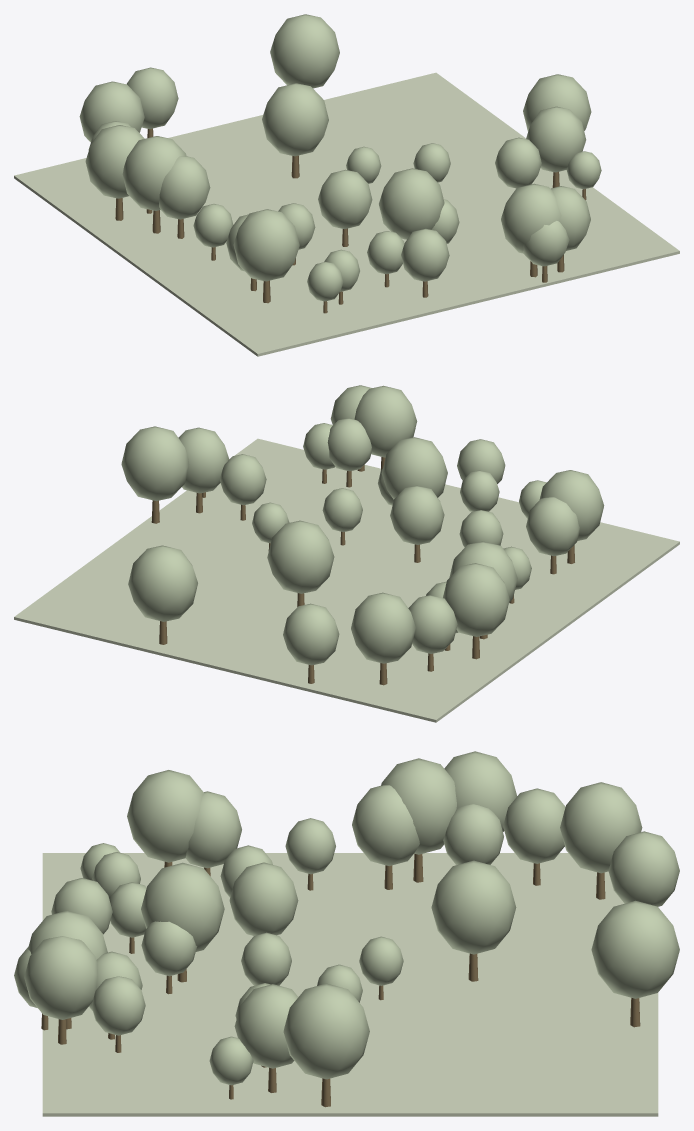
The picture shows the model from 3 angles, top to bottom: view 1: azimuth 30°, elevation 25°; view 2: azimuth 150°, elevation 25°; view 3: azimuth 270°, elevation 25°; orthographic projection. The views are drawn at different scales.
Visible parts, largest first — view 1: terrain, lod-near-13, lod-near-8, lod-near-0, lod-near-26, lod-near-14, lod-near-20, lod-near-11, lod-near-31, lod-near-18, lod-near-1, lod-near-10 (+15 smaller); view 2: terrain, lod-near-13, lod-near-25, lod-near-8, lod-near-11, lod-near-1, lod-near-31, lod-near-26, lod-near-6, lod-near-18, lod-near-16, lod-near-0 (+14 smaller); view 3: terrain, lod-near-13, lod-near-25, lod-near-8, lod-near-0, lod-near-1, lod-near-29, lod-near-26, lod-near-14, lod-near-6, lod-near-10, lod-near-18 (+20 smaller).
Part boxes in pixels (left/top/right/bottom): terrain: left=14, top=72, right=679, bottom=356; lod-near-13: left=270, top=14, right=339, bottom=88; lod-near-8: left=262, top=83, right=328, bottom=156; lod-near-0: left=233, top=209, right=299, bottom=281; lod-near-26: left=379, top=168, right=444, bottom=239; lod-near-14: left=122, top=136, right=186, bottom=210; lod-near-20: left=526, top=106, right=586, bottom=172; lod-near-11: left=85, top=125, right=144, bottom=198; lod-near-31: left=501, top=183, right=561, bottom=253; lod-near-18: left=318, top=169, right=372, bottom=229; lod-near-1: left=79, top=81, right=144, bottom=142; lod-near-10: left=159, top=156, right=210, bottom=219; terrain: left=14, top=438, right=679, bottom=722; lod-near-13: left=128, top=545, right=197, bottom=621; lod-near-25: left=121, top=426, right=189, bottom=500; lod-near-8: left=267, top=520, right=334, bottom=593; lod-near-11: left=443, top=563, right=509, bottom=636; lod-near-1: left=351, top=592, right=415, bottom=663; lod-near-31: left=354, top=385, right=417, bottom=457; lod-near-26: left=381, top=437, right=447, bottom=499; lod-near-6: left=283, top=603, right=339, bottom=665; lod-near-18: left=390, top=485, right=444, bottom=544; lod-near-16: left=526, top=497, right=579, bottom=556; lod-near-0: left=539, top=470, right=604, bottom=540; terrain: left=42, top=853, right=658, bottom=1116; lod-near-13: left=591, top=900, right=679, bottom=998; lod-near-25: left=283, top=983, right=369, bottom=1079; lod-near-8: left=431, top=860, right=516, bottom=954; lod-near-0: left=127, top=770, right=204, bottom=862; lod-near-1: left=560, top=782, right=642, bottom=873; lod-near-29: left=24, top=936, right=97, bottom=1019; lod-near-26: left=141, top=862, right=224, bottom=951; lod-near-14: left=381, top=758, right=456, bottom=854; lod-near-6: left=608, top=831, right=679, bottom=906; lod-near-10: left=352, top=785, right=419, bottom=865; lod-near-18: left=229, top=862, right=298, bottom=935.
Bounding box in the file's own units: 33.47 × 7.26 × 34.6.
